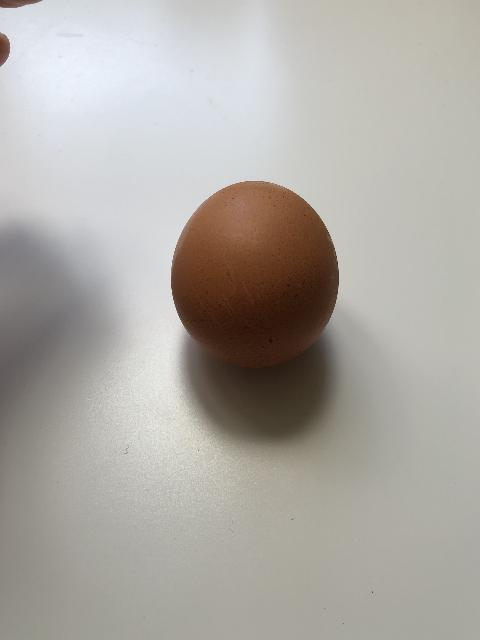Sano: (170, 179, 340, 369)
